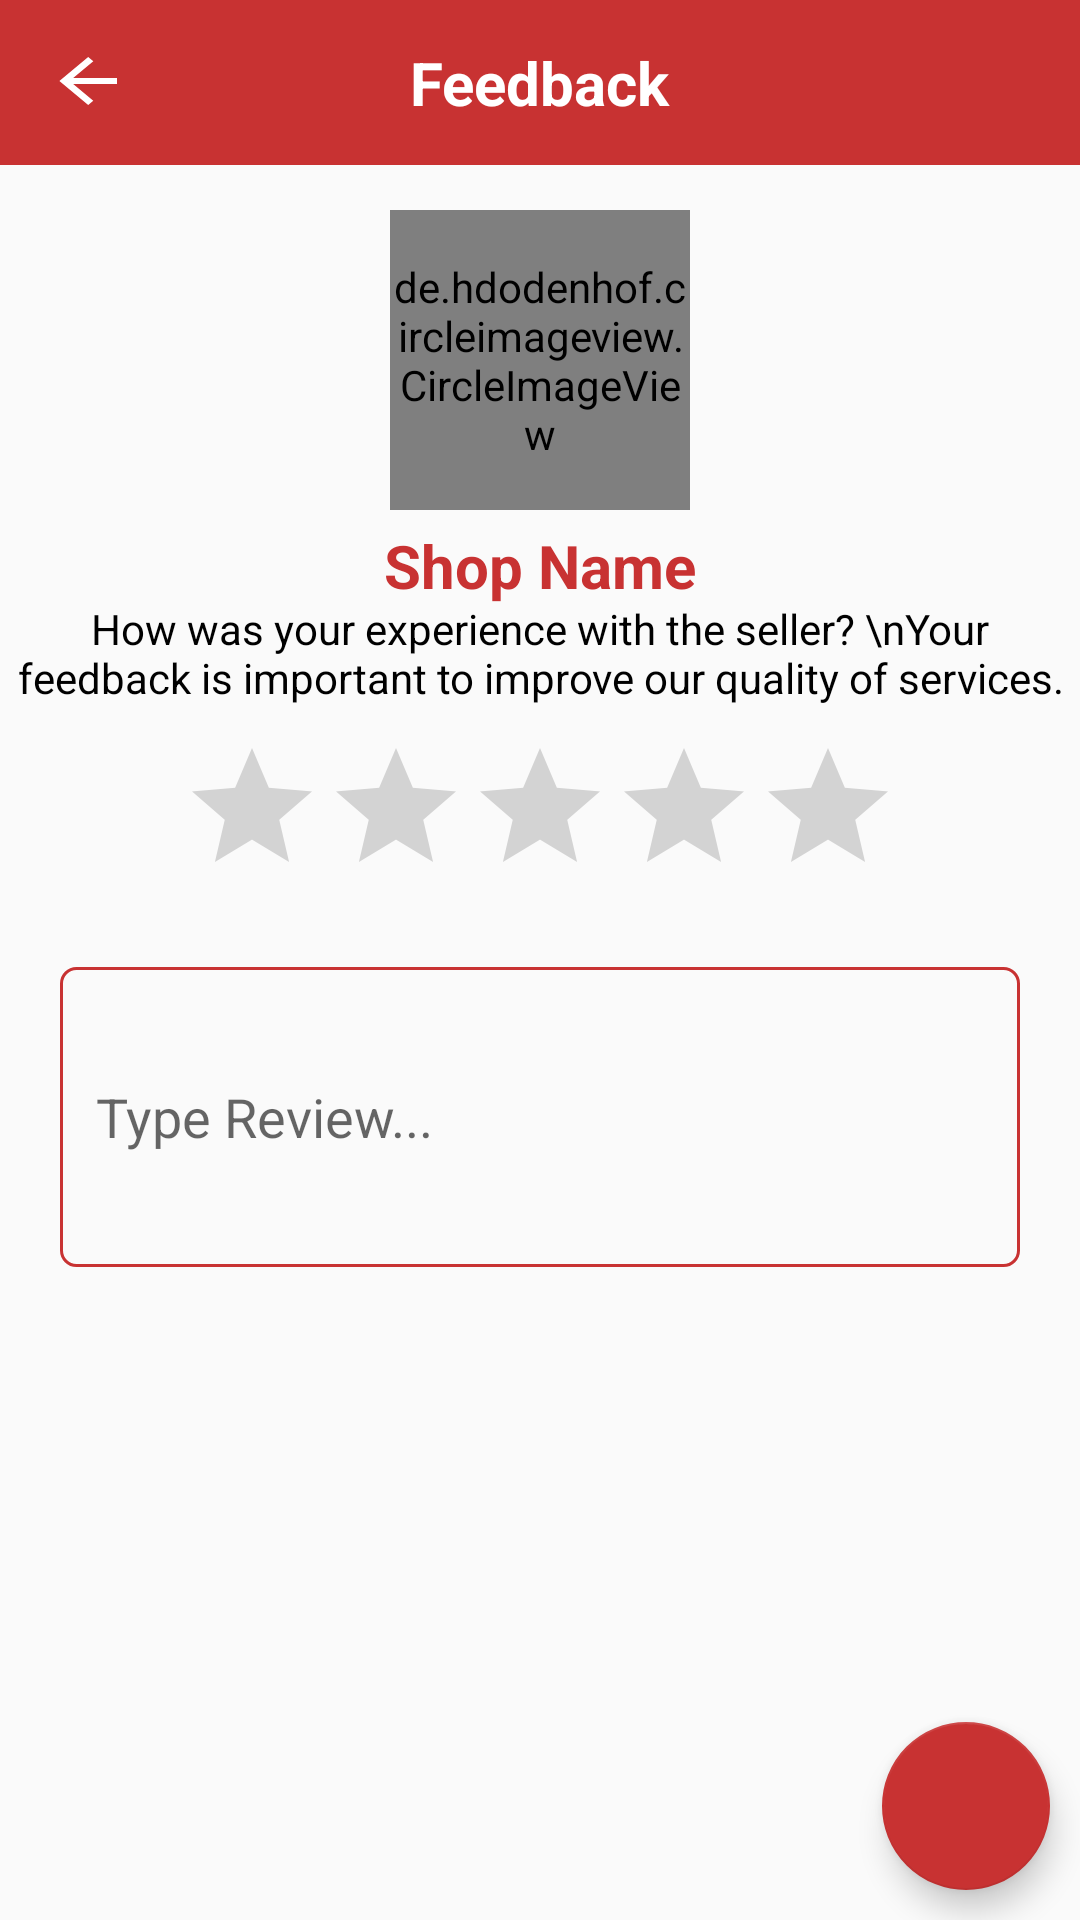

Locate icon controls on the screen. Image size 1080x1920, boxes as (x1, y1, x2, y2).
arrow: (59, 57, 117, 105)
